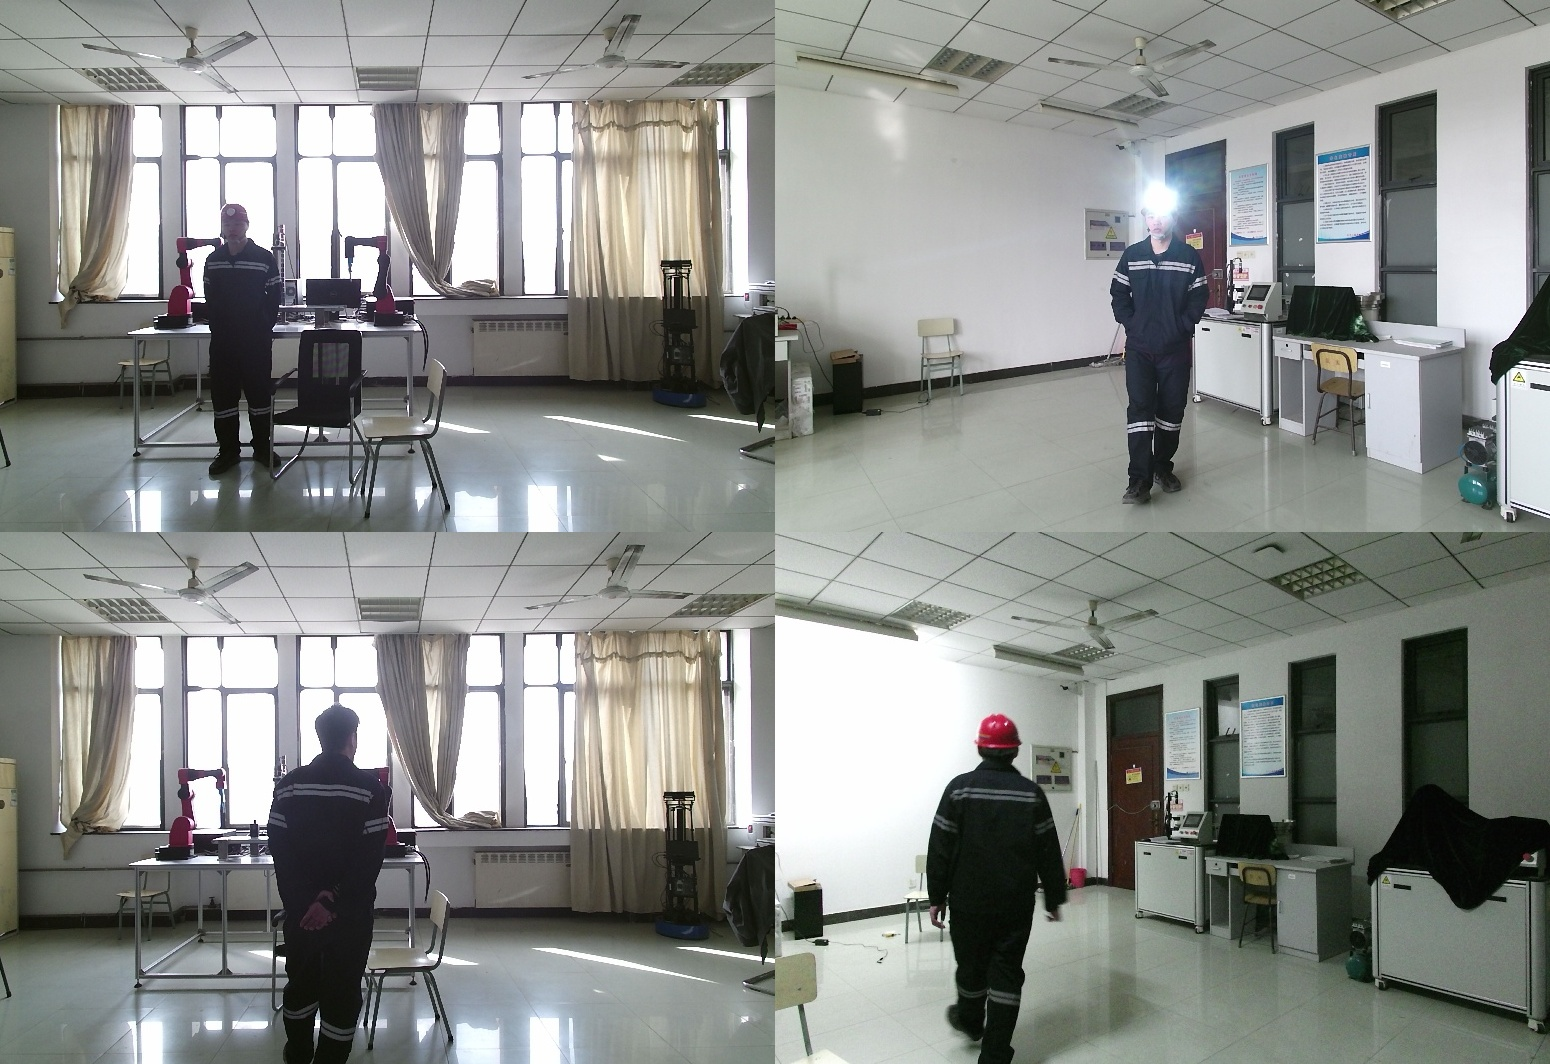person: (265, 705, 413, 1064), (929, 710, 1070, 1064), (1113, 193, 1224, 503), (204, 205, 289, 478)
